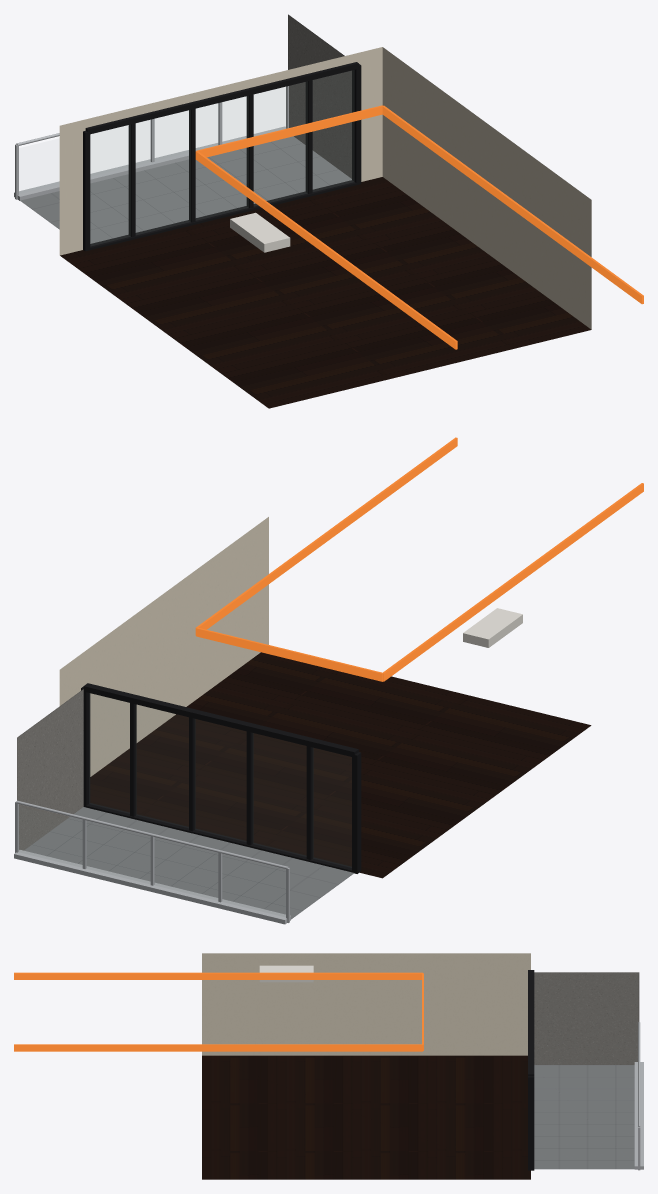
Rendered from chidorigafuchi-living.glb.
3 renders of one model, top to bottom at view 1: azimuth 30°, elevation 25°; view 2: azimuth 150°, elevation 25°; view 3: azimuth 270°, elevation 25°, orthographic. The views are drawn at different scales.
Parts seen in each view (by area): view 1: Floor, WallRight, BalconyFloor, BalconySideR, BackWallL, CoffStepL, CoffStepR, BackWallR, BackWallTop, FrameTop, CoffStepBack, FrameSill (+8 smaller); view 2: Floor, WallRight, BalconyFloor, BalconySideR, RailBase, CoffStepL, CoffStepR, FrameTop, CoffStepBack, FrameSill, AirCon, FrameSide0 (+6 smaller); view 3: Floor, WallLeft, BalconyFloor, BalconySideL, CoffStepR, CoffStepL, RailBase, FrameTop, FrameSide1, AirCon.
Boxes of the visible parts, x1,y1,x2,y2 form: Floor: (60, 177, 591, 408); WallRight: (382, 47, 591, 329); BalconyFloor: (20, 136, 351, 243); BalconySideR: (288, 14, 351, 178); BackWallL: (59, 119, 85, 255); CoffStepL: (195, 151, 457, 349); CoffStepR: (382, 105, 643, 304); BackWallR: (356, 47, 382, 181); BackWallTop: (85, 53, 356, 127); FrameTop: (85, 62, 358, 134); CoffStepBack: (196, 105, 382, 157); FrameSill: (87, 180, 358, 250); Floor: (90, 652, 591, 878); WallRight: (59, 517, 268, 776); BalconyFloor: (24, 807, 354, 919); BalconySideR: (17, 689, 83, 850); RailBase: (14, 850, 290, 924); CoffStepL: (382, 483, 643, 681); CoffStepR: (195, 437, 457, 635); FrameTop: (83, 683, 358, 757); CoffStepBack: (196, 627, 382, 681); FrameSill: (83, 803, 354, 872); AirCon: (463, 608, 522, 647); FrameSide0: (352, 752, 361, 873); Floor: (202, 1055, 530, 1179); WallLeft: (202, 953, 530, 1055); BalconyFloor: (534, 1065, 634, 1169); BalconySideL: (534, 972, 639, 1064); CoffStepR: (14, 1044, 422, 1051); CoffStepL: (14, 972, 422, 979); RailBase: (634, 1062, 643, 1169); FrameTop: (528, 970, 534, 1076); FrameSide1: (528, 1076, 534, 1170); AirCon: (259, 965, 313, 982).
Size of the model in its own units: 6.24 by 2.55 by 13.4.
Materials: 14 (5 with a texture image).
